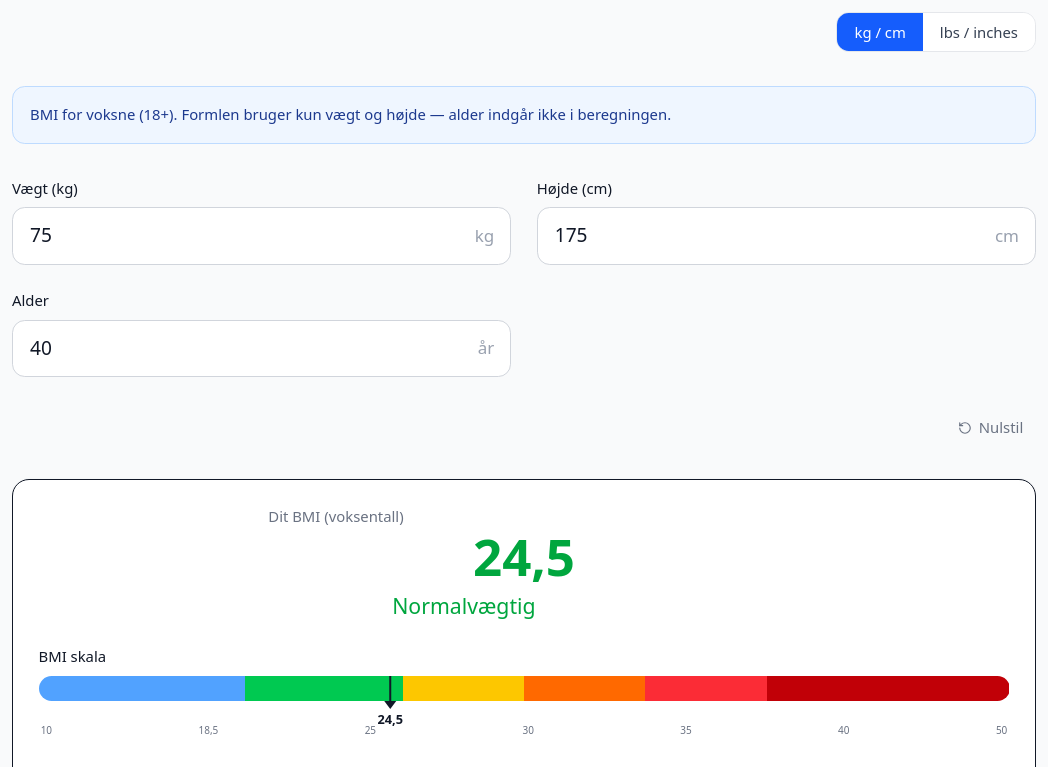
BMI-alderen (da) › alder under 18 siger at voksenbåndene ikke gælder
Replace the text in the number field labelled "Alder" with "12" at (262, 348), box [12,320,511,377]
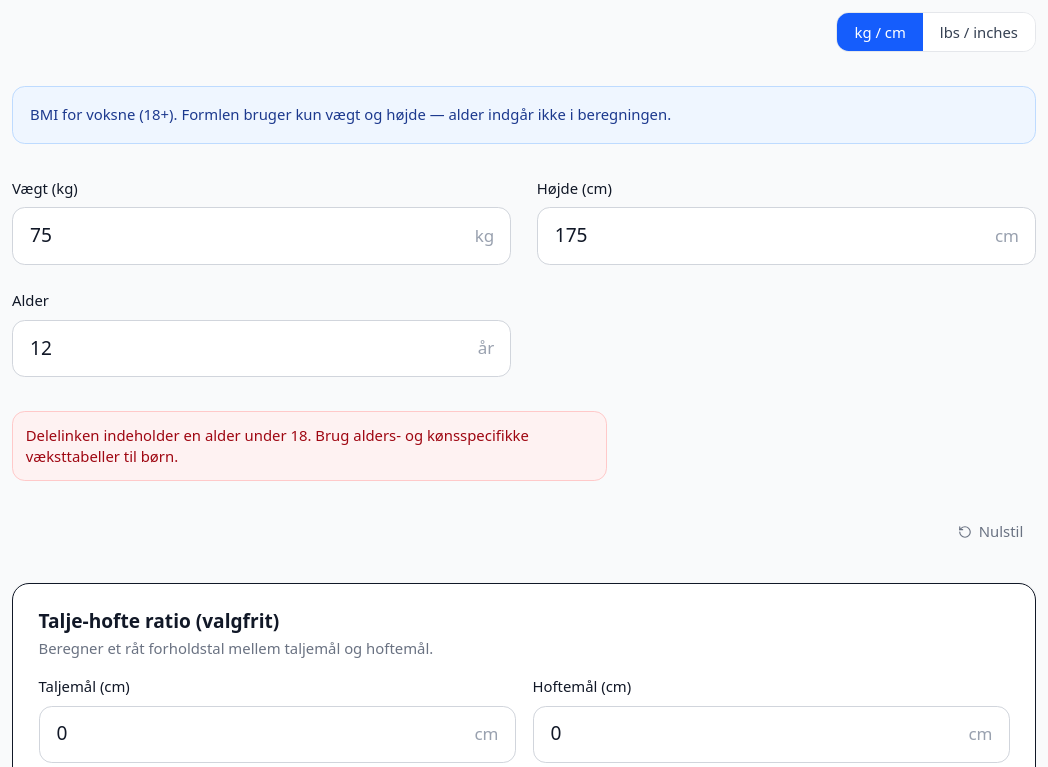
Expected: the message shows "Delelinken indeholder en alder under 18", [26,425,529,466]
